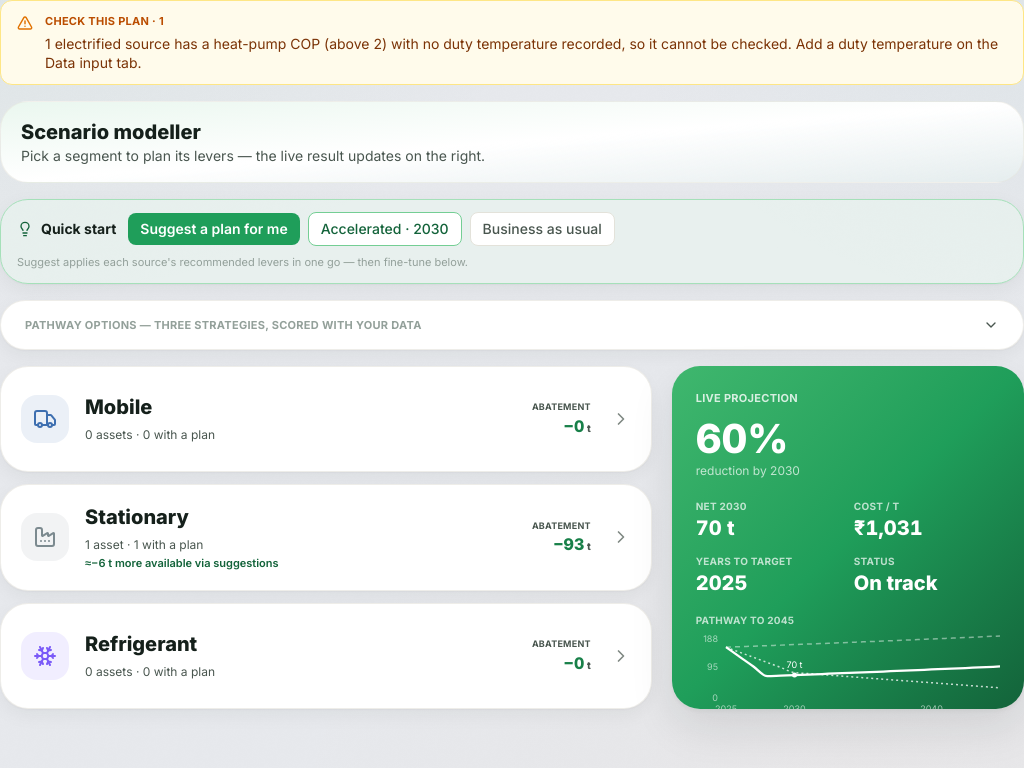
BuilderTab — a one-equipment source (D8's floor) is unchanged › still offers exactly one enabled 'Apply suggestion' and no split explanation
Step 1. Click the text "Stationary" → (137, 517), box [85,505,189,529]
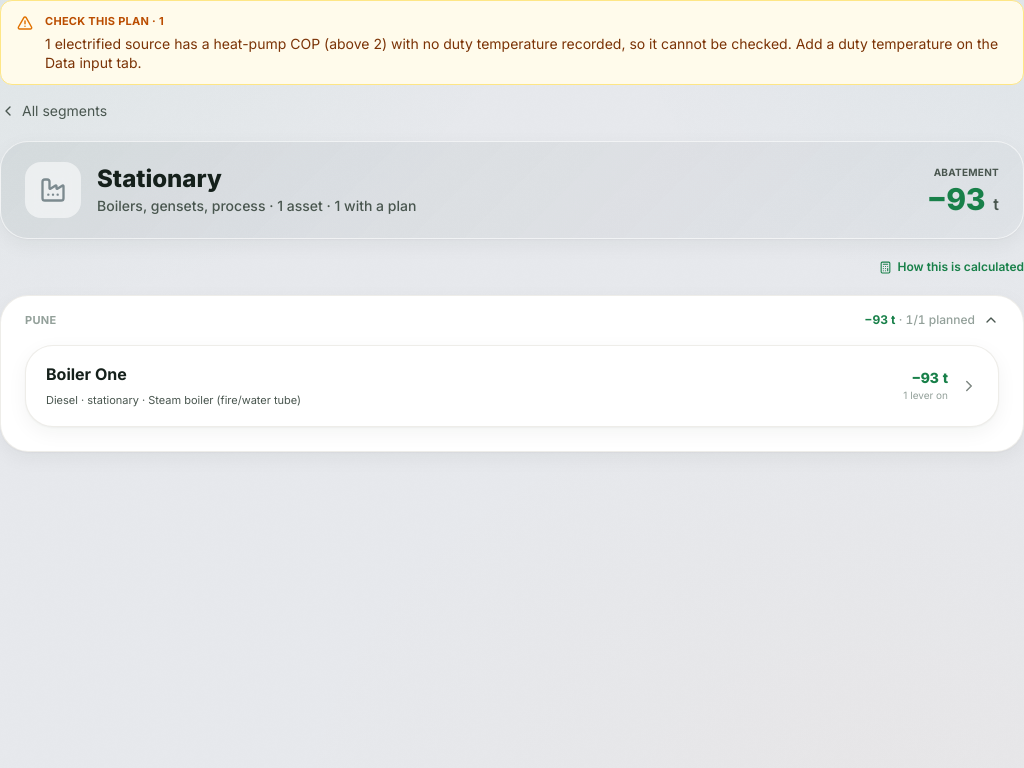
Step 2. Click the text "Boiler One" → (86, 374), box [46,362,127,386]
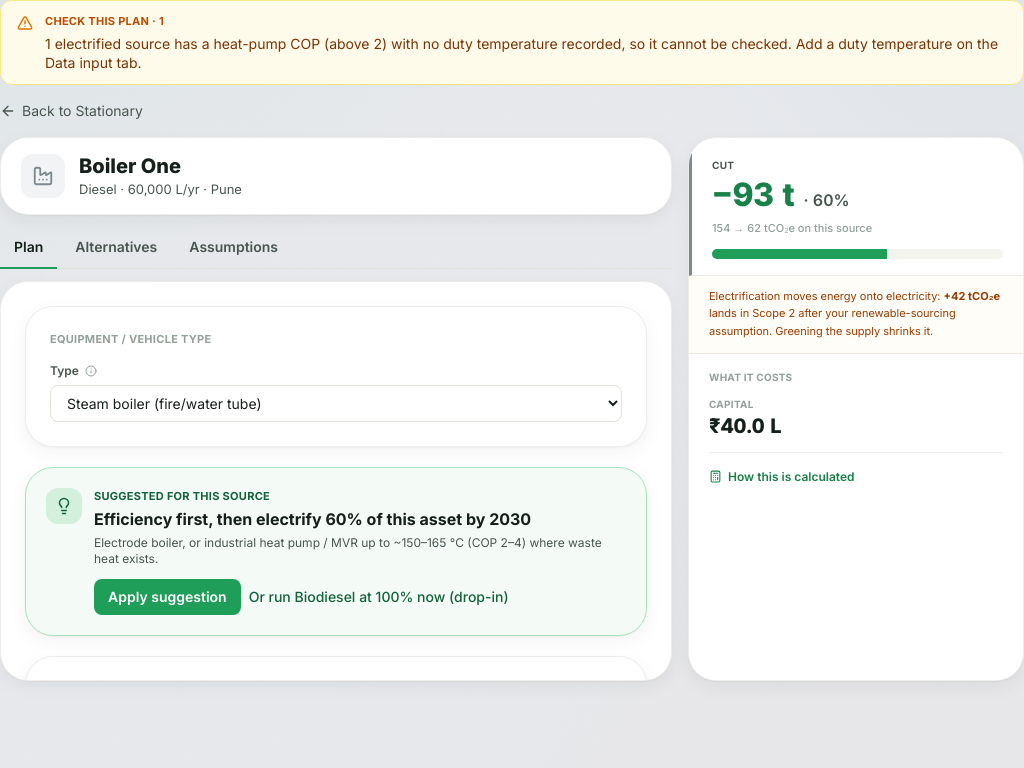
Result: the number of buttons "Apply suggestion" is 1 at [94,578,241,614]
Result: the button "Apply suggestion" is enabled at [94,578,241,614]
